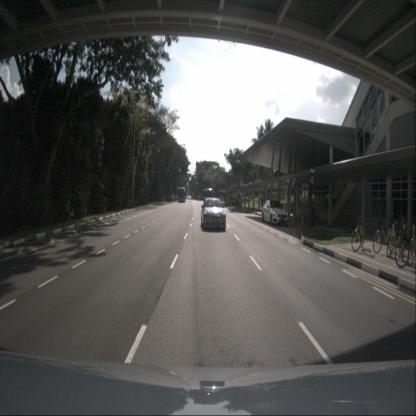human-pedestrian-adult: (263, 196, 265, 212), (261, 196, 263, 210), (225, 195, 226, 204)
vehicle-bicycle: (387, 218, 410, 268), (373, 214, 395, 254), (351, 212, 366, 253), (407, 222, 416, 268)
vehicle-bus-rigid: (203, 188, 214, 205), (178, 188, 186, 204)
vehicle-car: (201, 197, 226, 230), (261, 199, 289, 226)
